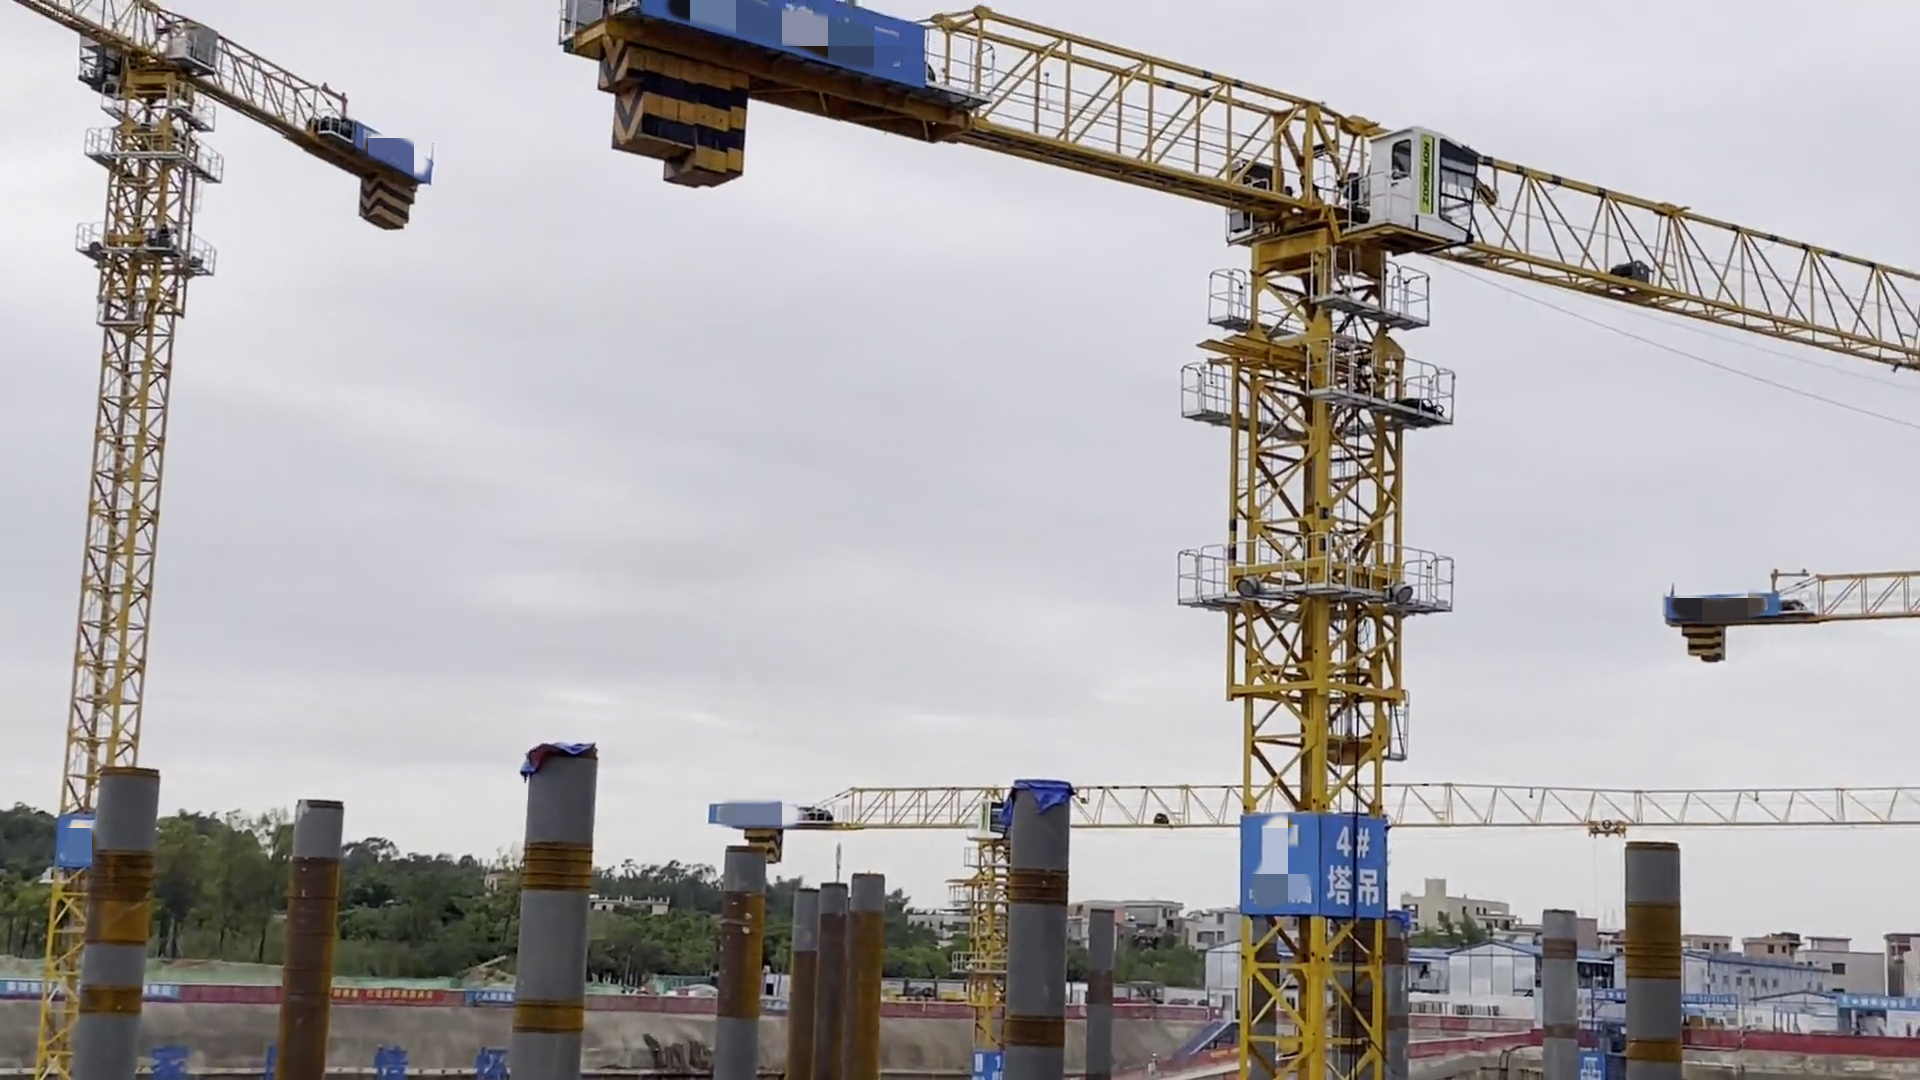slogan: (146, 1048, 516, 1069), (1319, 815, 1389, 919), (328, 982, 444, 1010), (138, 977, 182, 998), (473, 986, 524, 1001), (989, 1054, 1011, 1080)
